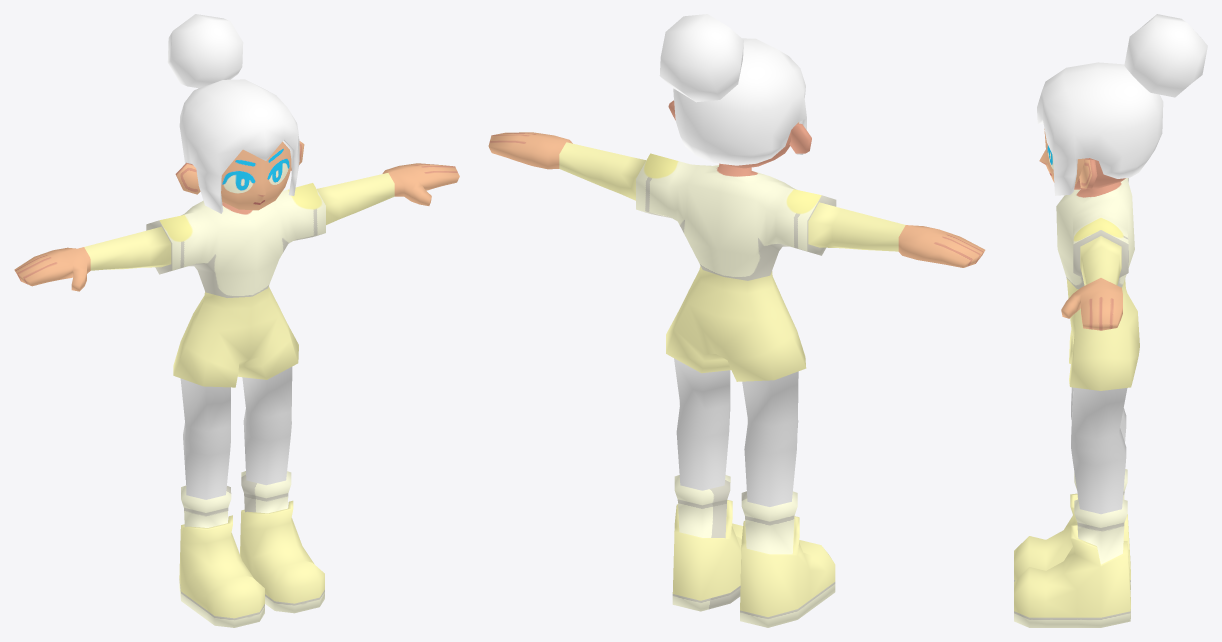
Rendered from estellafinal.glb.
3 renders of one model, left to right at view 1: azimuth 30°, elevation 25°; view 2: azimuth 150°, elevation 25°; view 3: azimuth 270°, elevation 25°, orthographic. The views are drawn at different scales.
Parts seen in each view (by area): view 1: body, hair, hair_bun, head, ears; view 2: body, hair, hair_bun; view 3: body, hair, hair_bun, head, ears.
Part boxes in pixels (x1,y1,x2,y2): body: (14, 163, 459, 627); hair: (179, 79, 299, 213); hair_bun: (167, 14, 243, 88); head: (221, 141, 291, 210); ears: (175, 141, 304, 194); body: (488, 132, 985, 627); hair: (673, 38, 806, 165); hair_bun: (659, 14, 743, 102); body: (1014, 178, 1139, 627); hair: (1037, 62, 1163, 195); hair_bun: (1124, 14, 1207, 97); head: (1039, 129, 1125, 189); ears: (1079, 159, 1097, 188).
Bounding box in the file's own units: 3.55 × 4.24 × 1.28.
1 material, 1 textured.
